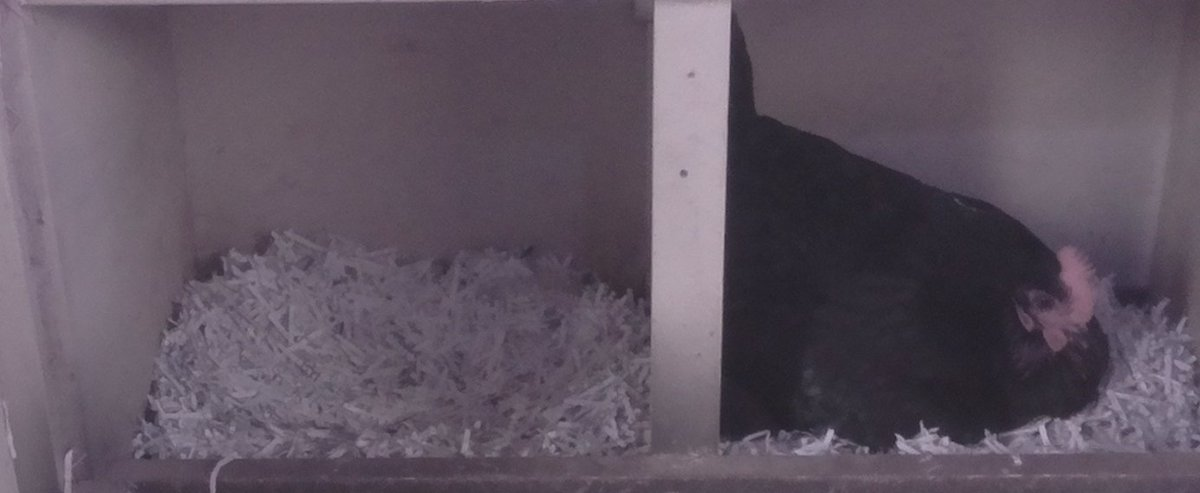hen: (729, 85, 1112, 443)
